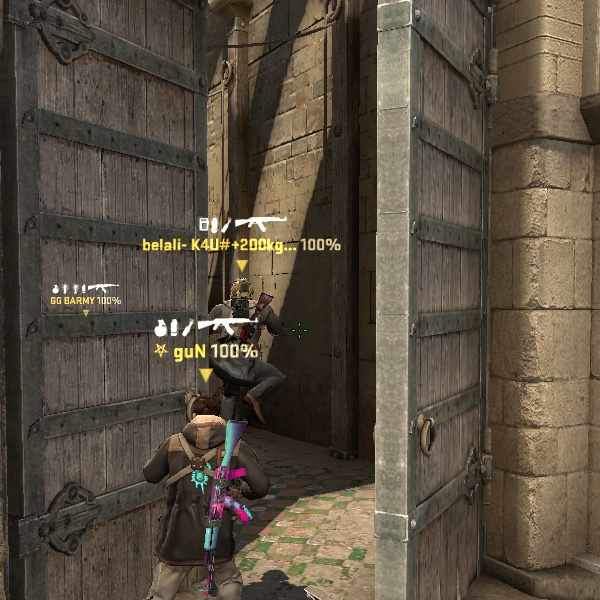t_body: (221, 272, 265, 313)
t_head: (170, 388, 245, 465), (222, 272, 264, 312)
